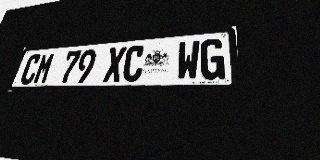7: (58, 50, 82, 84)
9: (74, 49, 98, 83)
C: (121, 45, 146, 82), (19, 54, 42, 85)
G: (200, 38, 225, 80)
M: (32, 53, 56, 84)
W: (176, 40, 200, 81)
X: (102, 46, 127, 82)
